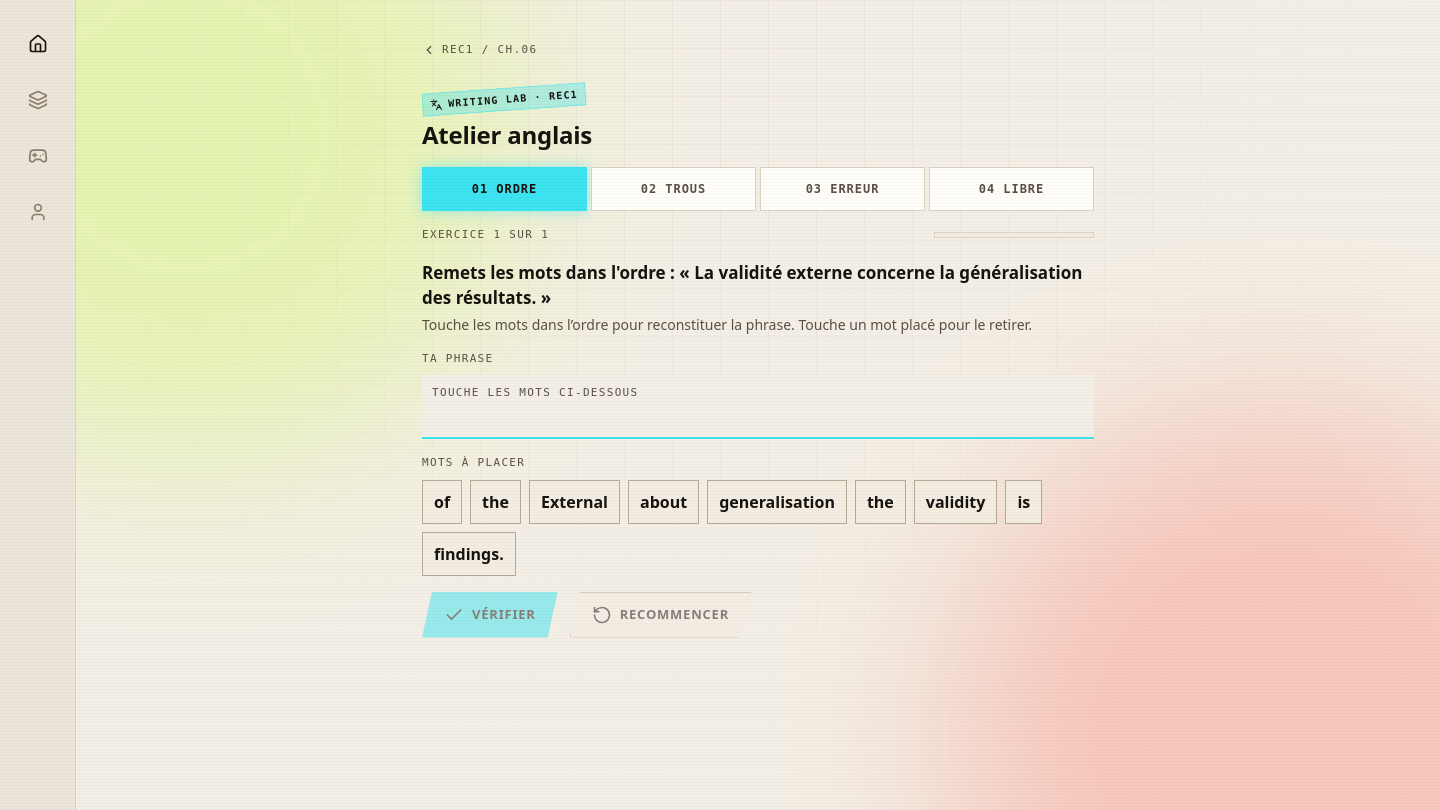
Test: atelier anglais REC1-05 › niveau 3 : mot du fragment fautif → correct, phrase corrigée et explication FR + EN
Expected: the element named "Niveaux de l’atelier" is shown, [422,167,1094,211]
Step 1. Click the tab "03 ERREUR" → (842, 189), box [760,167,925,211]
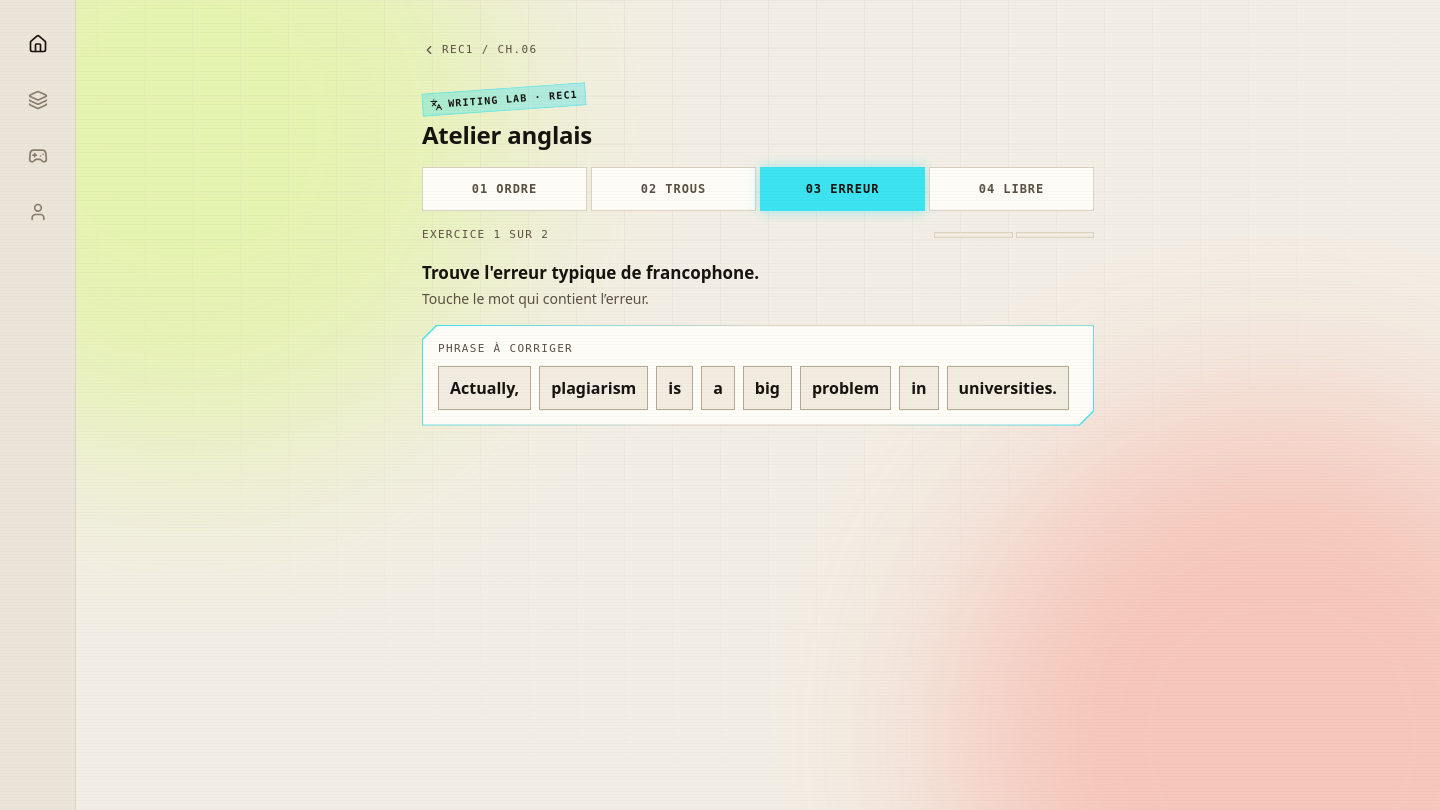
Step 2. Click the button "Actually," → (485, 388), box [438,366,531,410]
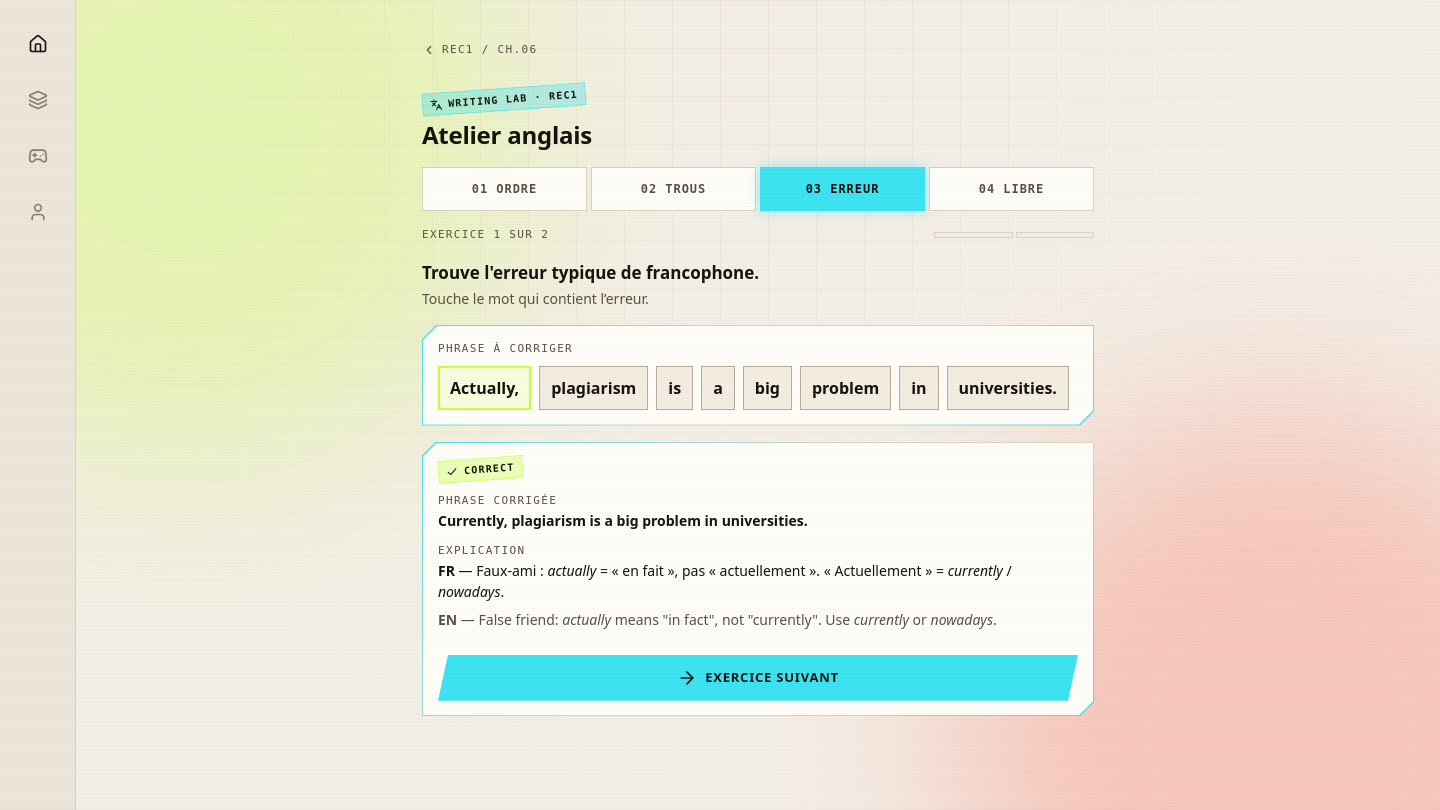
Expected: the element "Correct" is shown, [438,458,1078,700]
Expected: the text "Currently, plagiarism is a big problem in universities." is shown, [438,510,808,529]
Expected: the text "Faux-ami" is shown, [476,560,548,579]
